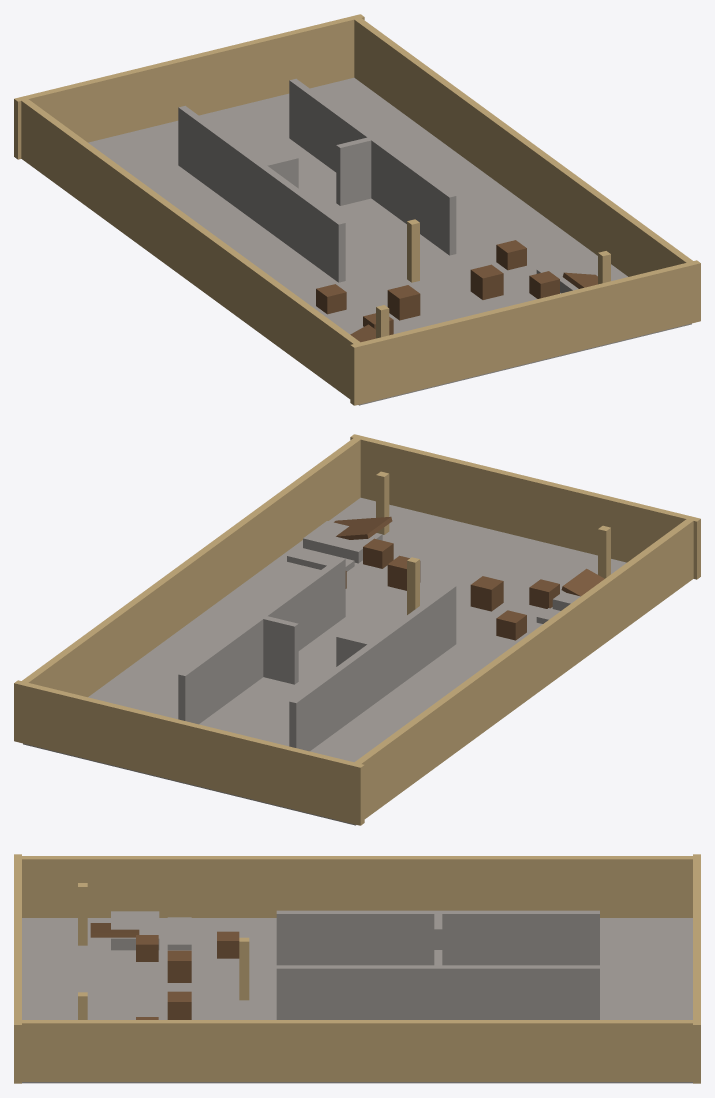
Rendered from de_greybox.glb.
3 renders of one model, top to bottom at view 1: azimuth 30°, elevation 25°; view 2: azimuth 150°, elevation 25°; view 3: azimuth 270°, elevation 25°, orthographic.
Parts seen in each view (by area): view 1: de_greybox; view 2: de_greybox; view 3: de_greybox.
Part boxes in pixels (x1,y1,x2,y2): de_greybox: (14, 14, 700, 405); de_greybox: (14, 434, 700, 825); de_greybox: (14, 854, 700, 1083).
Bounding box in the file's own units: 25 × 4.29 × 42.5.
